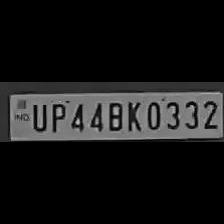0: (142, 98, 162, 130)
2: (199, 97, 219, 130)
3: (181, 97, 199, 130), (163, 98, 181, 130)
4: (66, 100, 86, 132), (85, 100, 103, 132)
B: (104, 99, 124, 131)
K: (124, 100, 142, 132)
P: (46, 100, 66, 132)
U: (28, 100, 48, 132)
